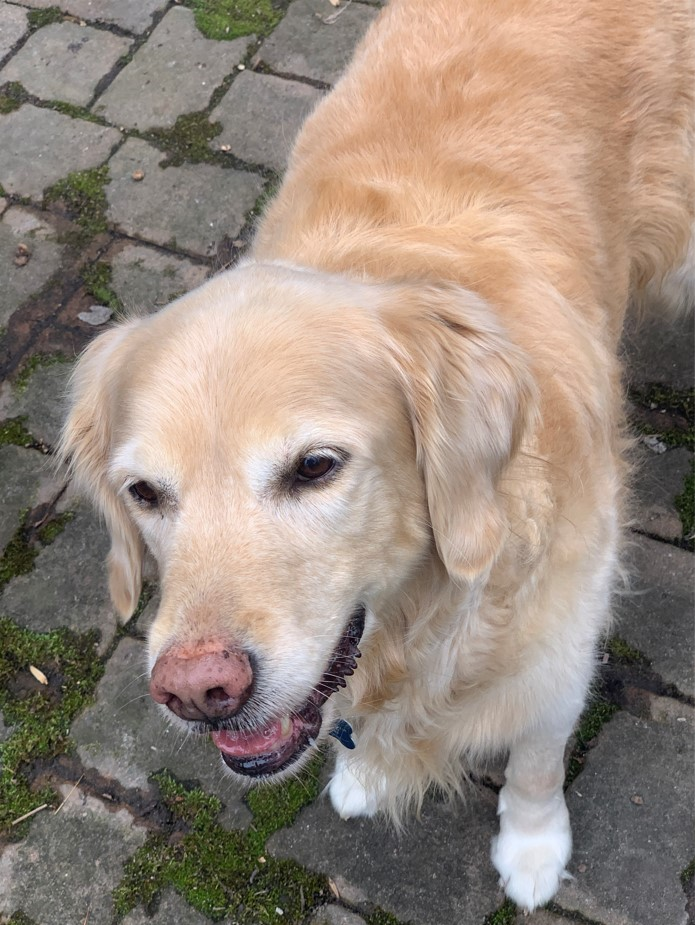bella: (63, 262, 538, 787)
